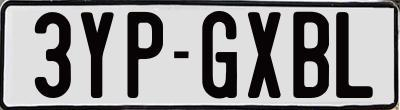3: (35, 10, 77, 101)
B: (290, 12, 332, 103)
G: (200, 8, 237, 96)
L: (333, 11, 376, 102)
P: (124, 10, 161, 102)
X: (247, 10, 286, 99)
Y: (80, 9, 118, 95)
